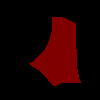mutande: (29, 17, 81, 86)
